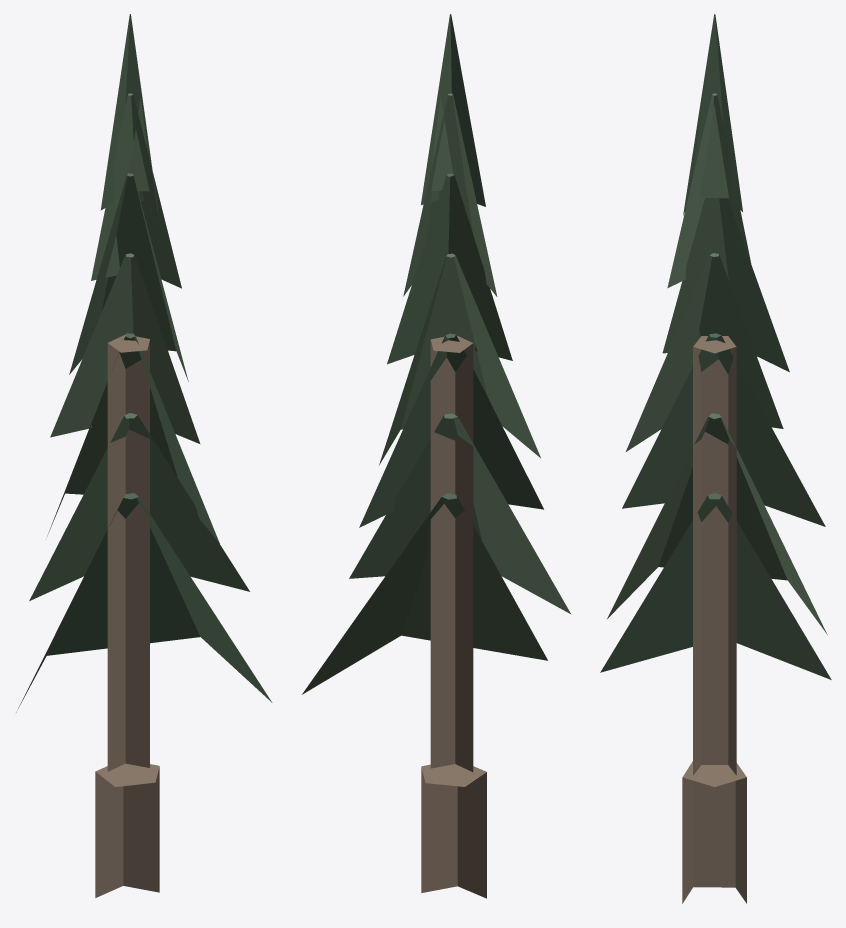
The model's file is tree.cold.spruce__summer.glb.
The picture shows the model from 3 angles, left to right: view 1: azimuth 30°, elevation 25°; view 2: azimuth 150°, elevation 25°; view 3: azimuth 270°, elevation 25°; orthographic projection.
Parts seen in each view (by area): view 1: tree.cold.spruce__summer; view 2: tree.cold.spruce__summer; view 3: tree.cold.spruce__summer.
Boxes of the visible parts, x1,y1,x2,y2 form: tree.cold.spruce__summer: [16, 14, 272, 897]; tree.cold.spruce__summer: [302, 14, 570, 898]; tree.cold.spruce__summer: [600, 14, 831, 903].
Size of the model in its own units: 4.4 by 16.76 by 3.98.
